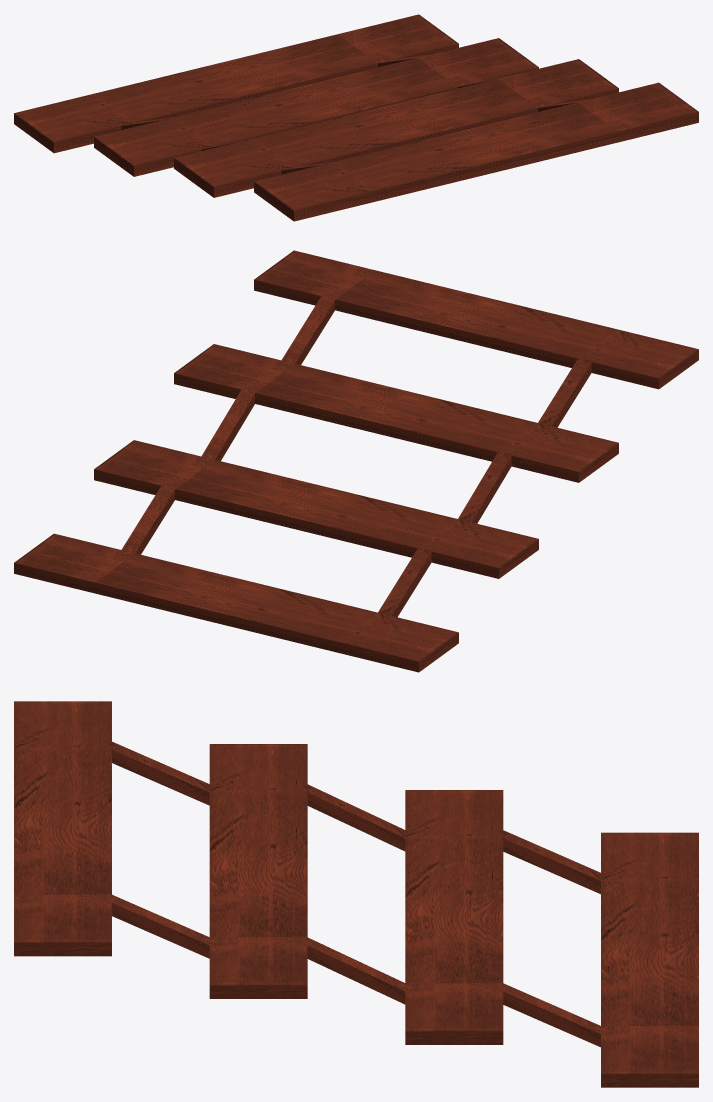
File: Basement_Stairs.fbx
3 renders of one model, top to bottom at view 1: azimuth 30°, elevation 25°; view 2: azimuth 150°, elevation 25°; view 3: azimuth 270°, elevation 25°, orthographic. The views are drawn at different scales.
Parts seen in each view (by area): view 1: pCube5; view 2: pCube5; view 3: pCube5.
Part boxes in pixels (x1=…): pCube5: x1=14, y1=14, x2=698, y2=221; pCube5: x1=14, y1=250, x2=698, y2=672; pCube5: x1=14, y1=701, x2=698, y2=1087.
Bounding box in the file's own units: 5.85 × 1.63 × 7.
